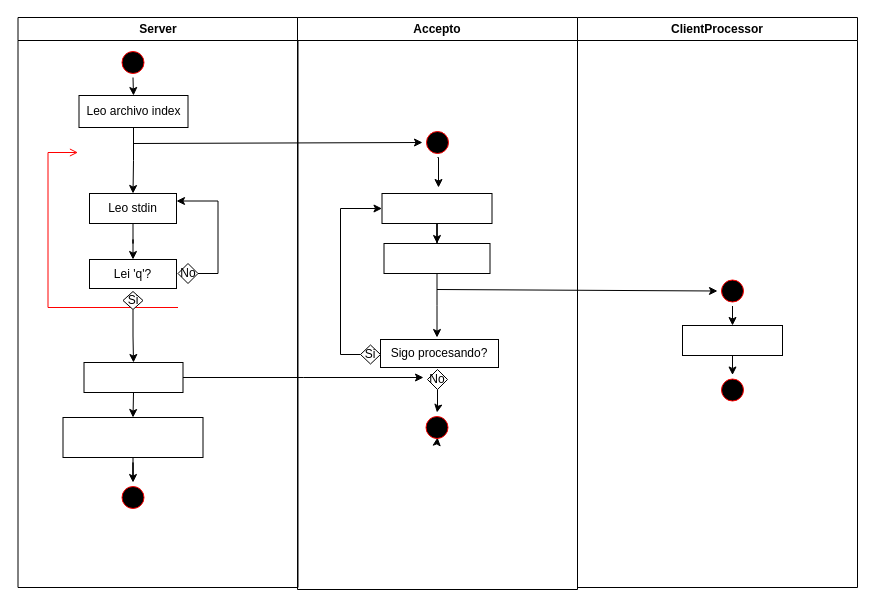
The diagram is 875 pixels wide and 607 high, and some of its shapes have lost their labels. The shapes that lost their labels are listed below. From the top down, each one's centre as x and y in pixels, then its label:
point (436, 208): Acepto cliente
point (436, 258): Recibo comando
point (732, 340): Procesar cliente
point (133, 377): Acceptor pará
point (132, 437): Actualiza archivo index
